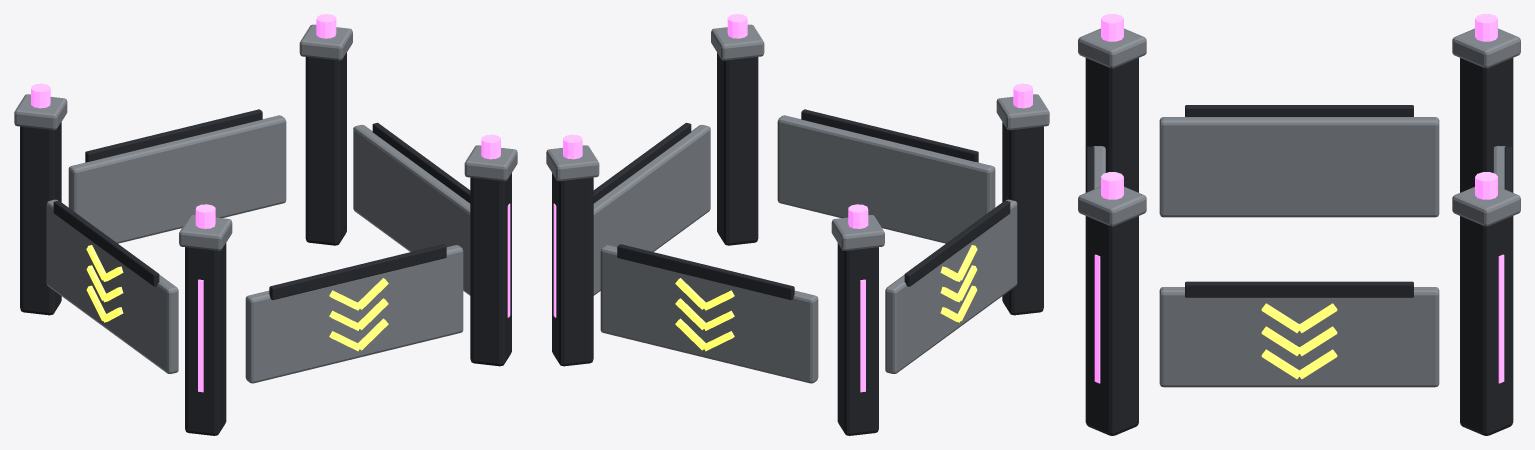
File: td_upgrade.glb
3 renders of one model, left to right at view 1: azimuth 30°, elevation 25°; view 2: azimuth 150°, elevation 25°; view 3: azimuth 270°, elevation 25°, orthographic. The views are drawn at different scales.
Visible parts, largest first — view 1: Up2, Up3; view 2: Up2, Up3; view 3: Up2, Up3.
Boxes of the visible parts, bbox=[...] form: Up2: bbox=[46, 109, 470, 383]; Up3: bbox=[14, 14, 517, 435]; Up2: bbox=[593, 109, 1017, 383]; Up3: bbox=[546, 14, 1049, 435]; Up2: bbox=[1086, 105, 1512, 387]; Up3: bbox=[1078, 14, 1520, 435].
Bounding box in the file's own units: 1.74 × 1.08 × 1.74.
